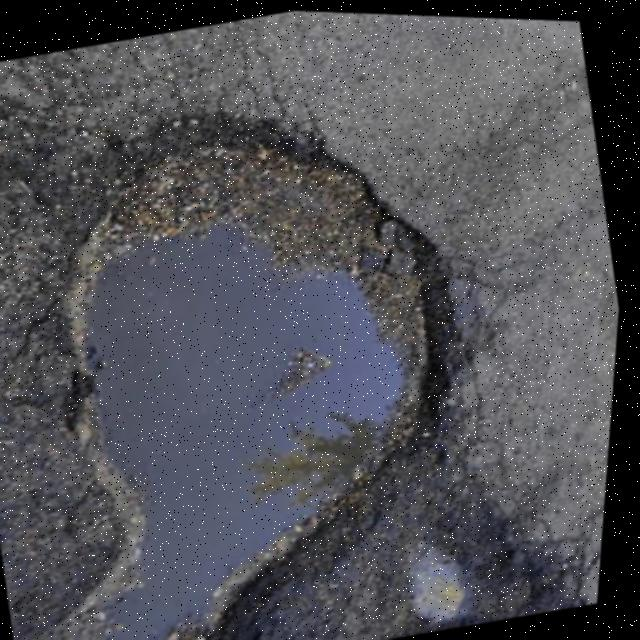Pothole: (0, 59, 560, 640)
